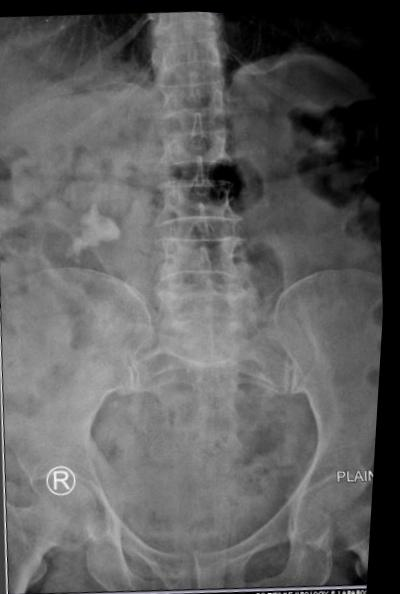vertebrae: (138, 67, 225, 123)
